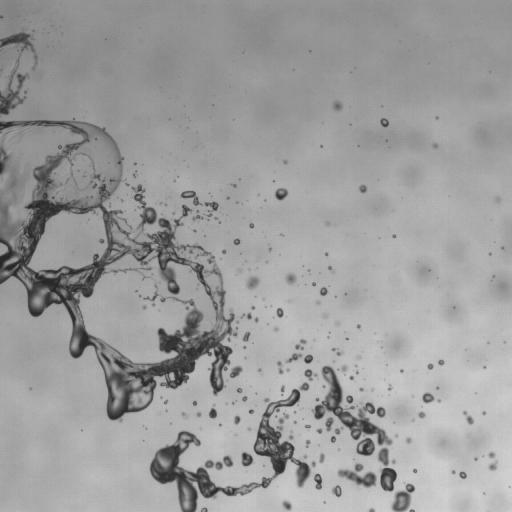droplet: (0, 32, 37, 68), (391, 483, 414, 511), (204, 201, 218, 218), (246, 276, 259, 289), (241, 452, 253, 466), (229, 365, 242, 377), (304, 369, 317, 381), (275, 188, 287, 200), (422, 392, 434, 403), (285, 273, 296, 284), (325, 417, 333, 431), (208, 406, 217, 418), (295, 339, 305, 349), (332, 485, 341, 496), (282, 500, 291, 511), (333, 101, 342, 110), (304, 354, 313, 363), (488, 461, 497, 470), (192, 213, 203, 220), (380, 118, 388, 127), (276, 307, 283, 317), (243, 331, 250, 341), (332, 348, 342, 355), (339, 365, 347, 373), (359, 184, 366, 193), (241, 313, 251, 319), (320, 287, 327, 295), (234, 415, 240, 424), (319, 453, 324, 463), (418, 411, 425, 418), (488, 451, 495, 458), (459, 471, 466, 478), (233, 238, 239, 244), (438, 359, 444, 365), (427, 363, 433, 369), (280, 386, 285, 393), (406, 437, 411, 443), (141, 273, 146, 278), (237, 388, 242, 393), (242, 396, 247, 401), (317, 428, 322, 433), (182, 412, 186, 418), (331, 436, 335, 442), (306, 440, 310, 446), (433, 143, 437, 148), (249, 223, 253, 228), (328, 266, 332, 271), (388, 385, 392, 390), (196, 412, 201, 416), (305, 425, 310, 429), (413, 468, 417, 473), (201, 508, 207, 511), (254, 318, 258, 322), (274, 327, 278, 331), (356, 355, 360, 359), (249, 409, 253, 413), (357, 324, 360, 329), (496, 197, 499, 201), (143, 305, 146, 309), (335, 322, 339, 325), (350, 376, 353, 380), (359, 388, 363, 391), (193, 401, 196, 405), (232, 184, 235, 187), (128, 225, 131, 228), (222, 250, 225, 253), (437, 399, 440, 402), (452, 471, 455, 474), (284, 160, 286, 163), (133, 174, 136, 176), (392, 235, 395, 237), (150, 274, 152, 277), (312, 283, 315, 285), (317, 301, 319, 304), (252, 306, 254, 309), (400, 370, 403, 372), (164, 401, 167, 403), (482, 412, 485, 414), (248, 427, 250, 430), (126, 183, 128, 185), (82, 188, 84, 190), (215, 218, 217, 220), (269, 248, 271, 250), (325, 253, 327, 255), (324, 315, 326, 317), (258, 369, 260, 371), (287, 369, 289, 371), (355, 371, 357, 373), (475, 458, 477, 460)
ligament: (0, 121, 237, 420), (152, 383, 321, 511), (311, 365, 397, 491), (0, 58, 28, 115), (337, 463, 376, 487), (0, 145, 11, 175), (180, 190, 200, 205), (286, 353, 302, 363), (463, 411, 473, 424), (65, 170, 73, 182), (277, 361, 283, 374), (75, 183, 79, 192), (368, 508, 375, 511), (0, 15, 1, 18)
